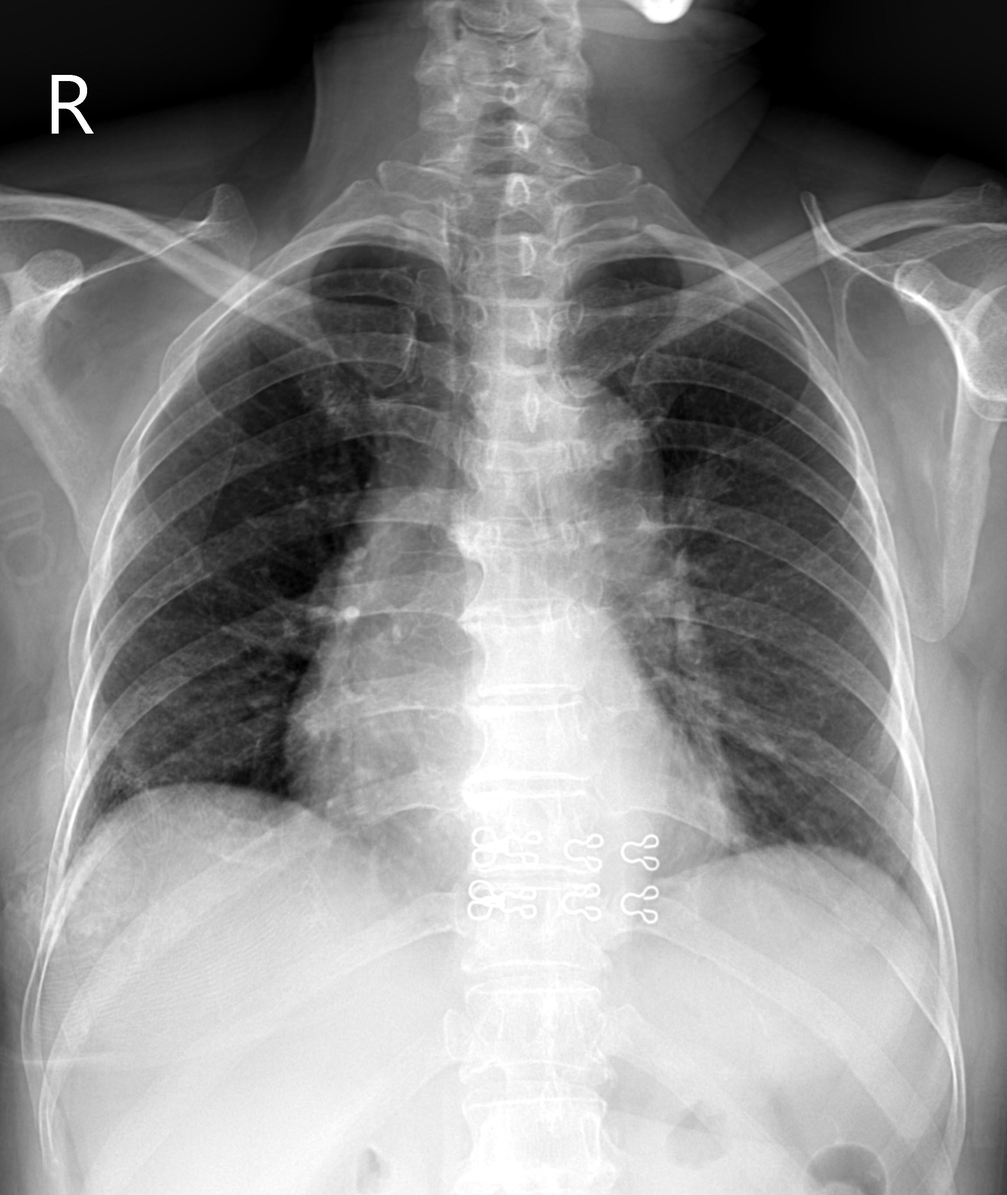Aortic enlargement: (362, 374, 663, 609)
Cardiomegaly: (275, 717, 753, 859)
